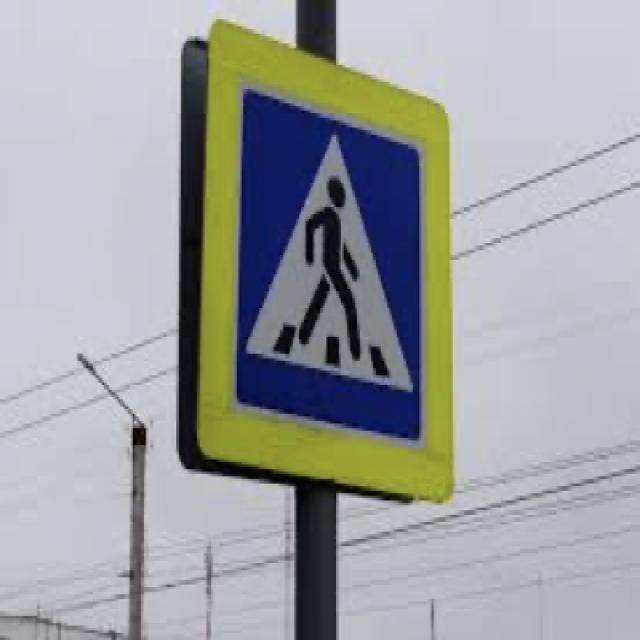crosswalk_sign: (229, 75, 427, 453)
